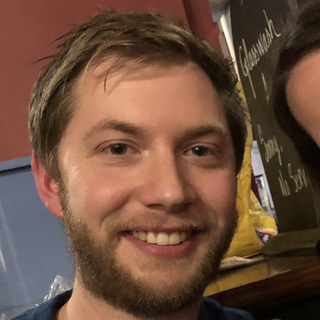eye: (95, 138, 143, 163), (178, 140, 222, 164)
